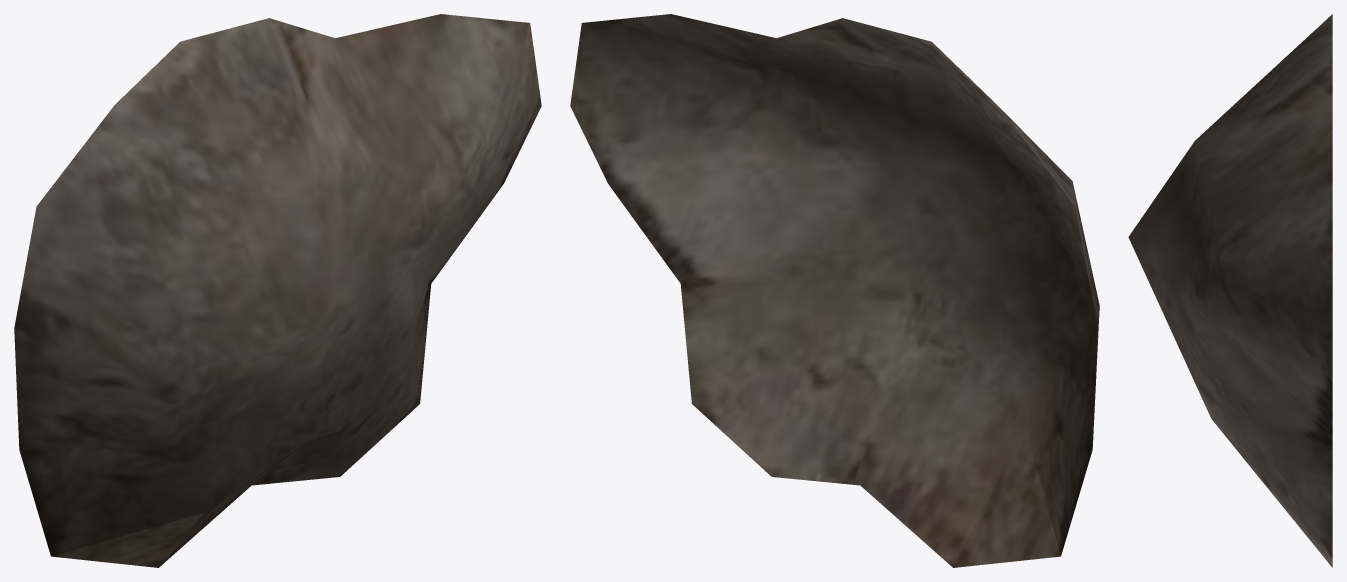
Rendered from prop_toujane_roadrock11.glb.
3 renders of one model, left to right at view 1: azimuth 30°, elevation 25°; view 2: azimuth 150°, elevation 25°; view 3: azimuth 270°, elevation 25°, orthographic.
Size of the model in its own units: 20.55 by 19.47 by 6.87.
1 material, 1 textured.
